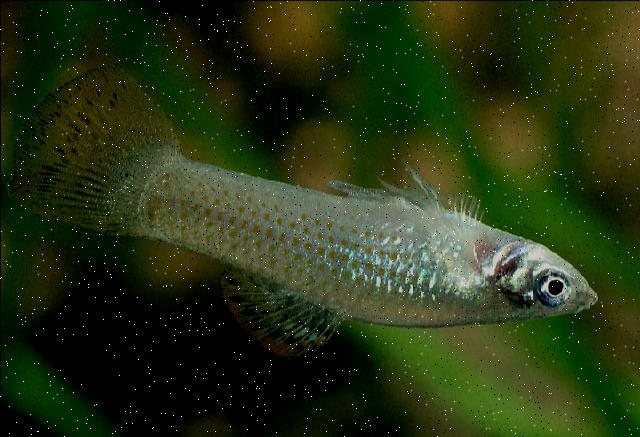Mulut: (566, 255, 616, 329)
Sirip Anal: (319, 163, 403, 223)
Sirip Dada: (432, 183, 493, 279)
Sirip Ekor: (4, 55, 180, 241)
Sirip Perut: (370, 152, 448, 222)
Sirip Punggung: (206, 260, 348, 378)
